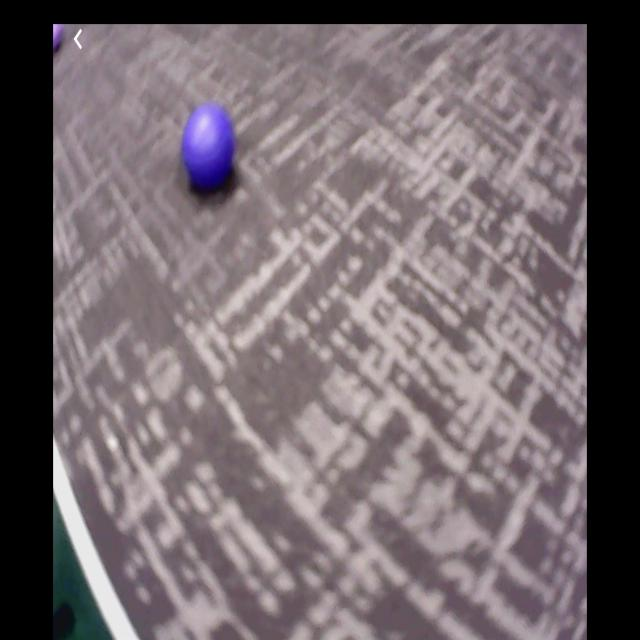ball: (182, 104, 236, 192), (54, 27, 70, 58)
